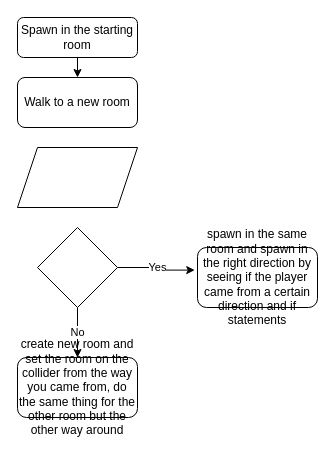
This 335x455 diagram has some shape labels left out. The centre of each missing label's shape, as x and y in pixels:
Get the Room by the rooms script: the point at 77,177
is <room> null?: the point at 77,267
